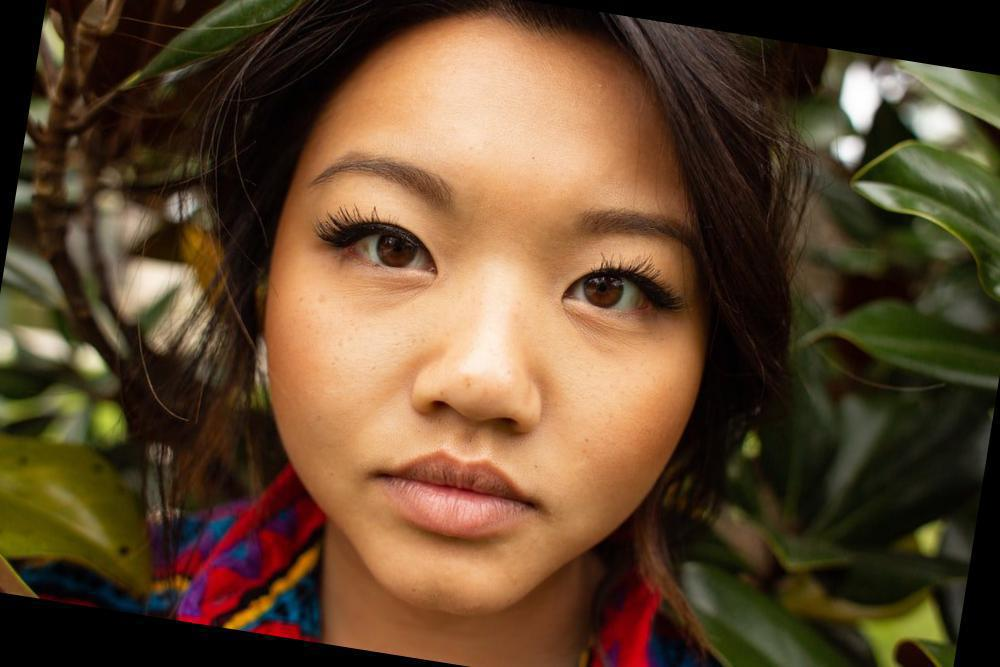Sober: (302, 47, 700, 564)
